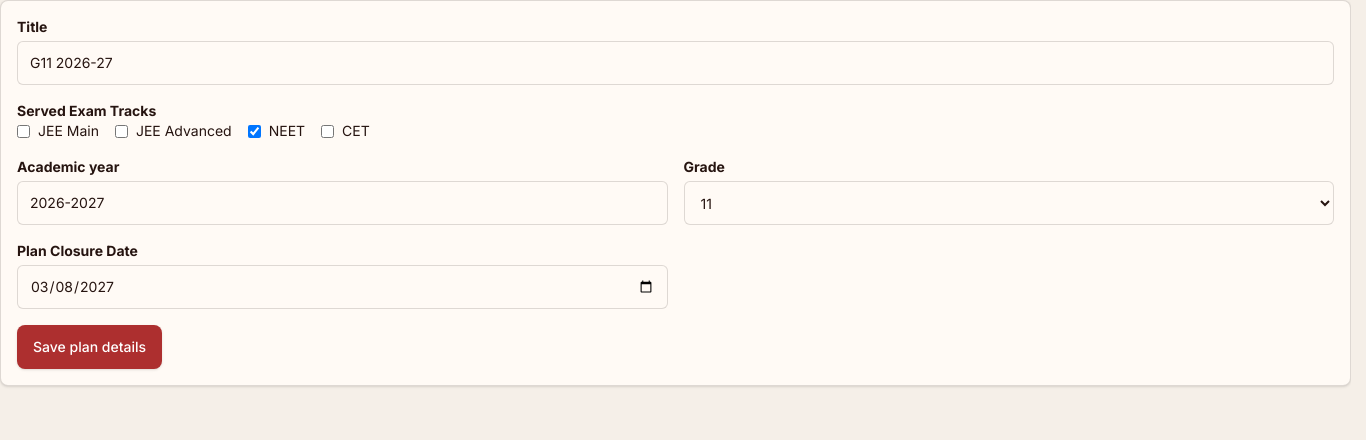
Test: CurriculumPlanMetadataForm › saves an existing plan's details, including an unticked track, and refreshes
Click the checkbox labelled "NEET": (254, 131) x1=248 y1=124 x2=261 y2=138
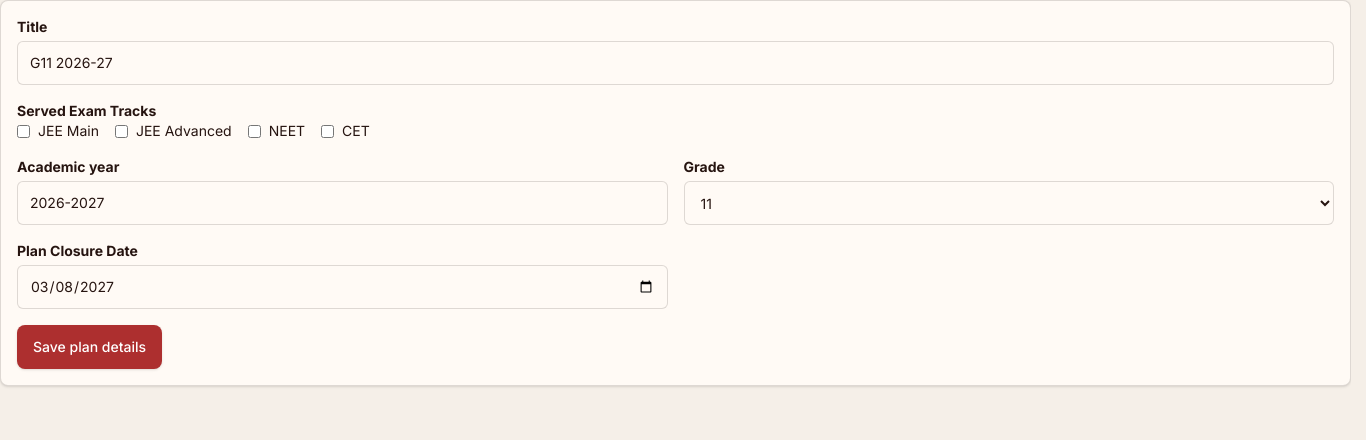
Click the button "Save plan details": (90, 347) x1=17 y1=325 x2=162 y2=369
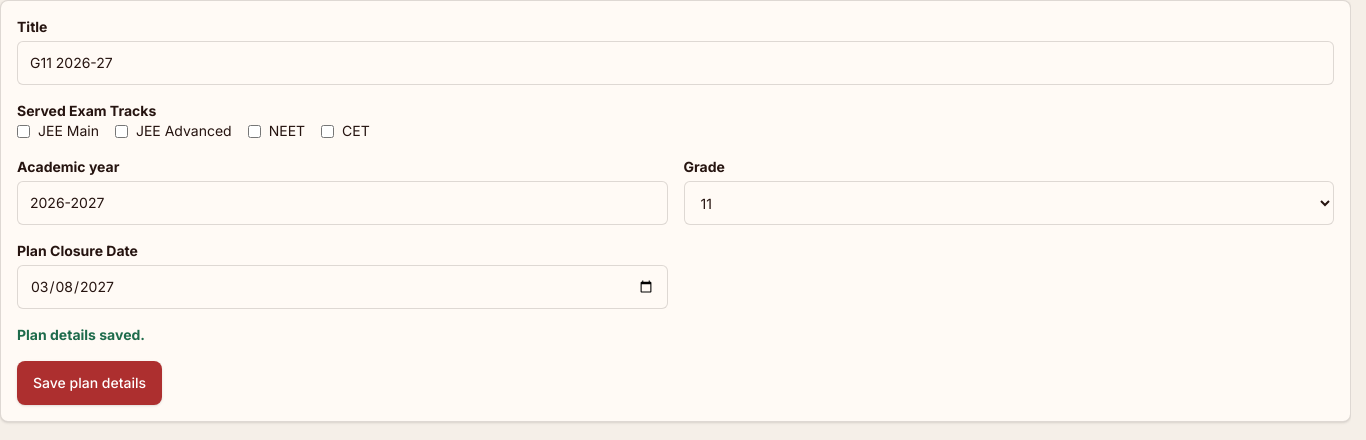
Check: the message reads "Plan details saved.", box x1=17 y1=326 x2=145 y2=343
